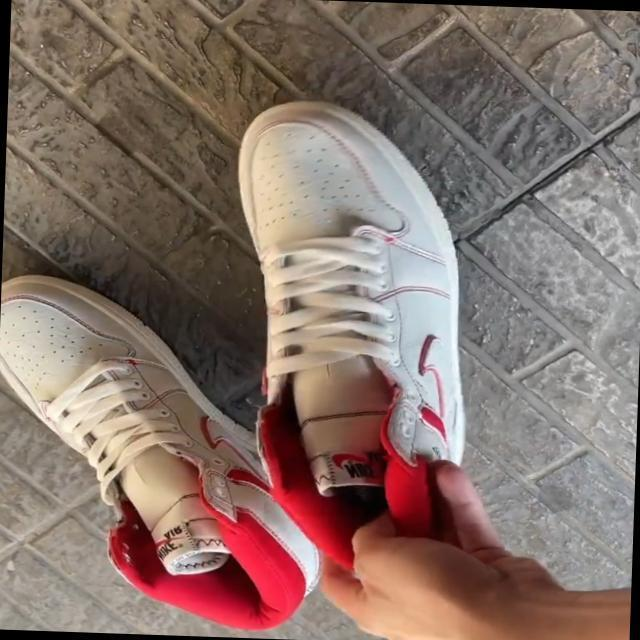nike fake jordan 1: (212, 99, 478, 576), (0, 273, 338, 635)
